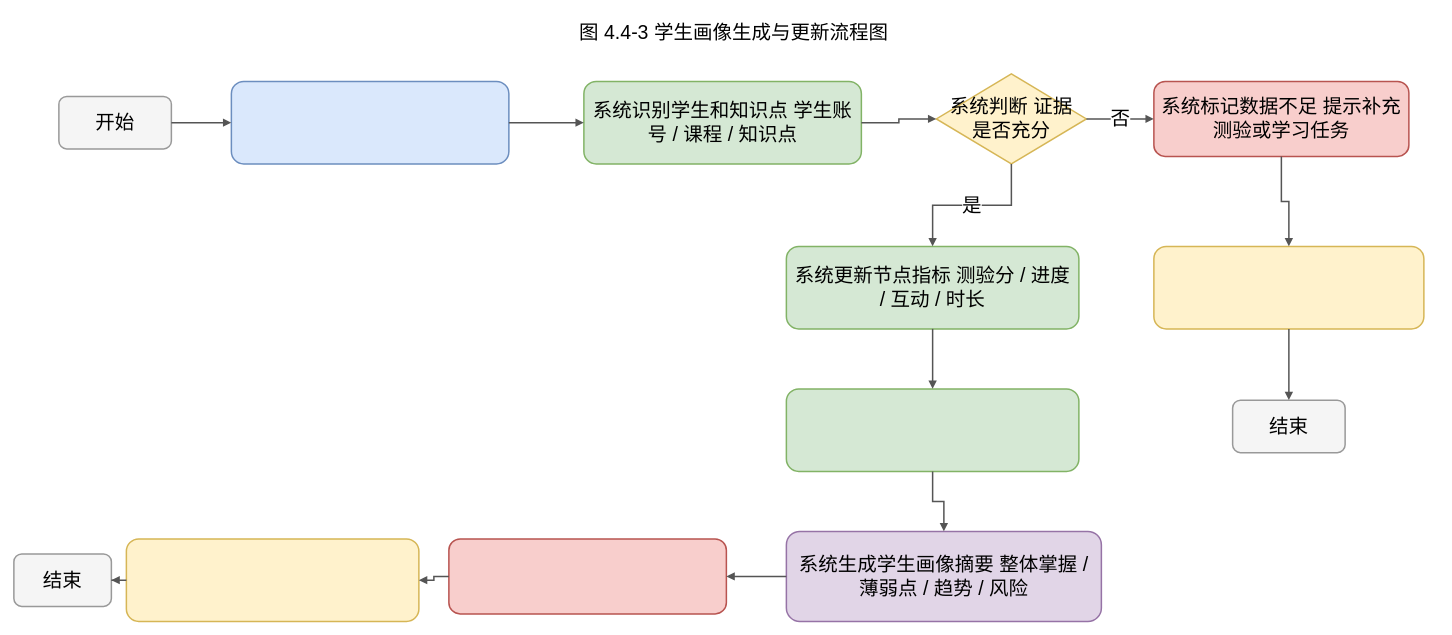
Some shapes in this 1452 by 635 pixel diagram are drawn without their labels. Here are the shapes that lost their labels. From the top down, the box of each, then its label:
(230, 80, 509, 164): 系统接收学习证据 测验 / 作业 / 进度 / 互动 / 时长
(1153, 245, 1424, 329): 系统向下游输出数据不足提示 学生页 / 诊断 / 教师看板
(785, 388, 1079, 472): 系统计算知识点掌握度 按权重汇总到 0-100
(125, 538, 419, 622): 系统向下游输出学生画像 学生页 / 诊断 / 路径 / 教师看板
(448, 538, 727, 614): 系统保存画像快照 和历史趋势
